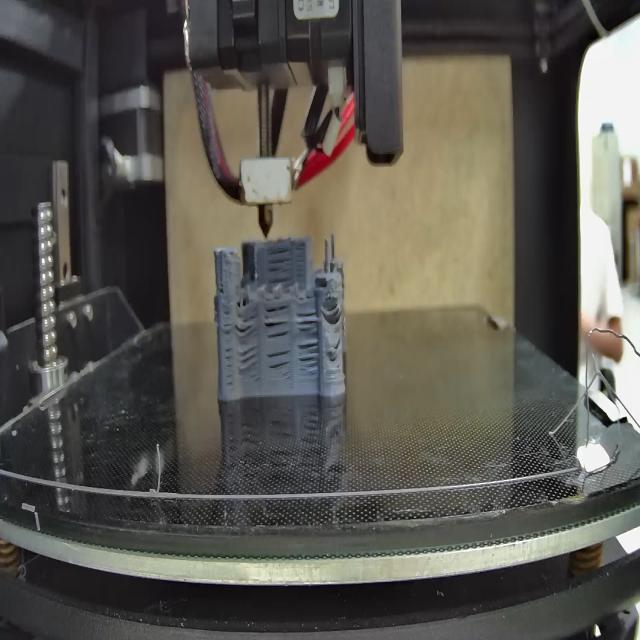cracks: (265, 243, 294, 283), (223, 312, 236, 388), (296, 337, 319, 379), (264, 303, 291, 337), (267, 350, 292, 386), (238, 342, 260, 377), (237, 307, 257, 340), (297, 307, 320, 334), (326, 302, 341, 325), (217, 271, 227, 297), (331, 340, 342, 353)
